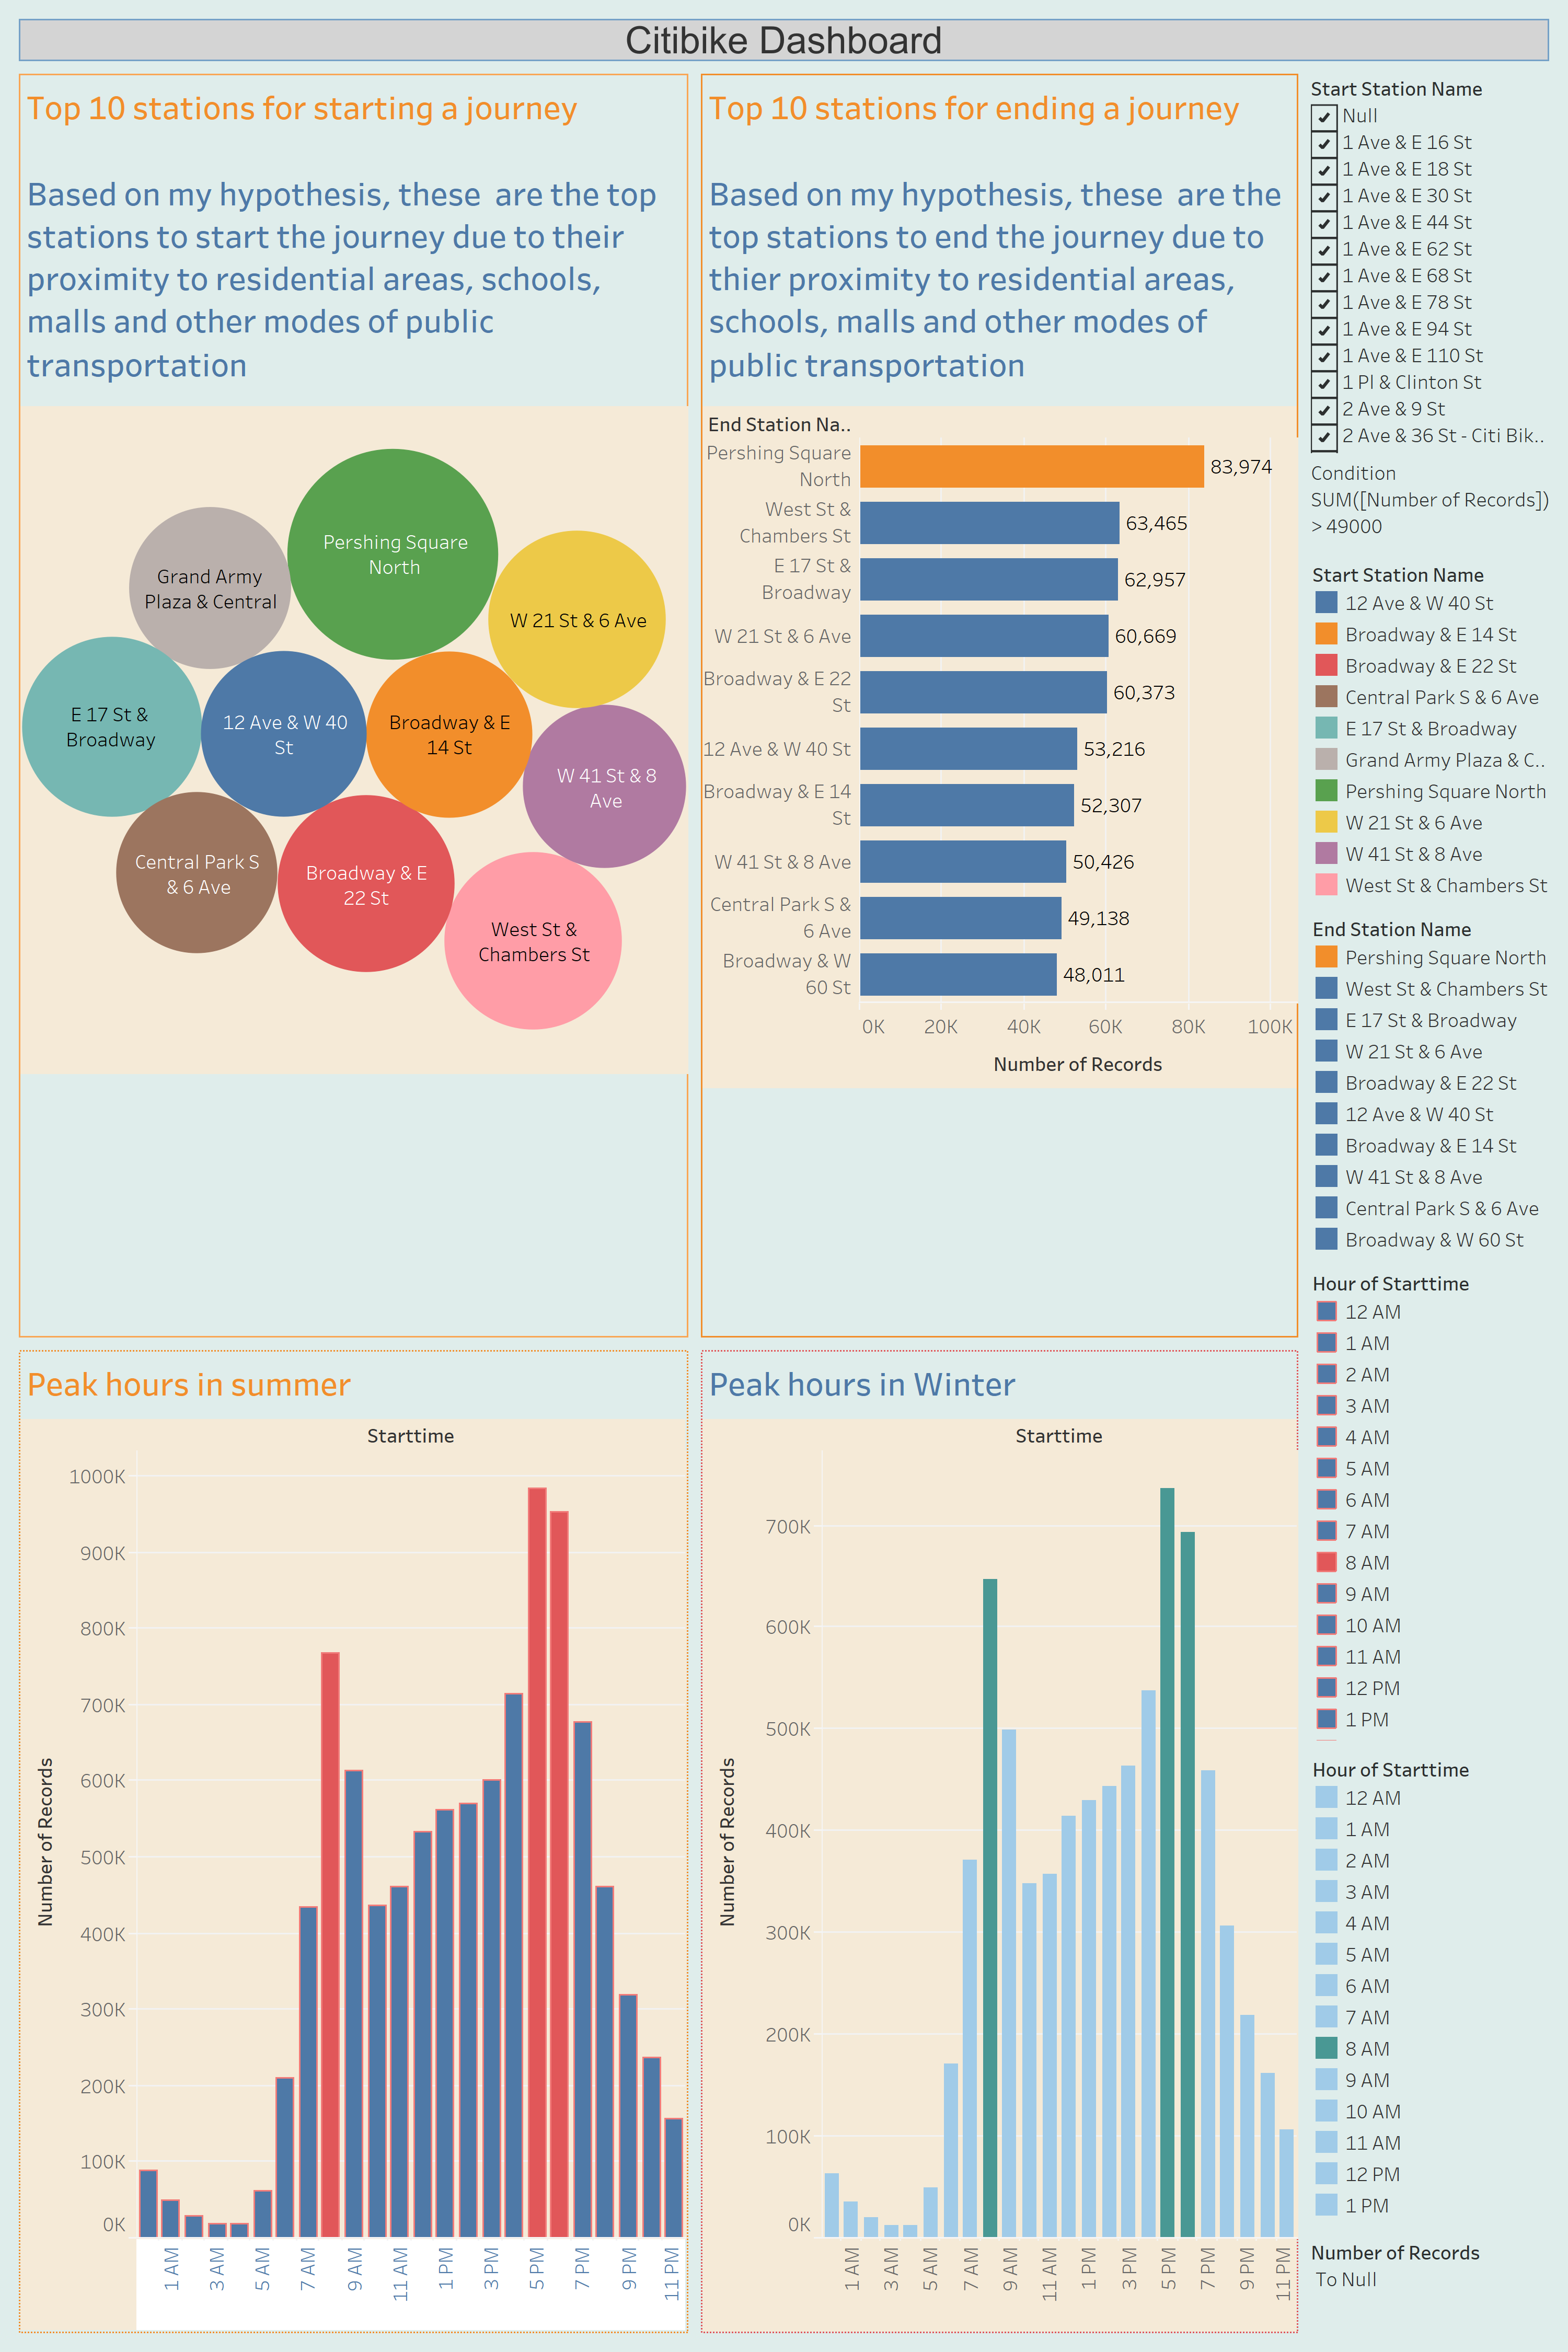

This screenshot's page, from the dashboard's own definition file:
{"tool":"tableau","page":{"name":"Citibike Dashboard","canvas":[1000,1500],"ordinal":0},"visuals":[{"type":"title","box":[8,8,984,35]},{"type":"worksheet","title":"Top 10 stations for starting a journey","mark":"Circle","box":[8,43,435,814.3]},{"type":"worksheet","title":"Top 10 stations for ending a journey","mark":"Automatic","rows":["end station name"],"cols":["Number of Records"],"box":[443,43,389,814.3]},{"type":"filter","title":"Top 10 stations for starting a journey","param":"[federated.0xiukut0ggkzjn19z69da158yac8].[none:start station name:nk]","box":[832,43,160,309.3]},{"type":"legend","title":"Top 10 stations for starting a journey","param":"[federated.0xiukut0ggkzjn19z69da158yac8].[none:start station name:nk]","box":[832,352.3,160,226]},{"type":"legend","title":"Top 10 stations for ending a journey","param":"[federated.0xiukut0ggkzjn19z69da158yac8].[none:end station name:nk]","box":[832,578.3,160,226]},{"type":"legend","title":"Peak hours in summer","param":"[federated.0xiukut0ggkzjn19z69da158yac8].[hr:starttime:ok]","box":[832,804.3,160,309.3]},{"type":"worksheet","title":"Peak hours in summer","mark":"Bar","rows":["Number of Records"],"cols":["starttime"],"box":[8,857.3,435,634.7]},{"type":"worksheet","title":"Peak hours in Winter","mark":"Bar","rows":["Number of Records"],"cols":["starttime"],"box":[443,857.3,389,634.7]},{"type":"legend","title":"Peak hours in Winter","param":"[federated.1tjbtri1fbnhg9139qmnr101qahb].[hr:starttime:ok]","box":[832,1113.7,160,309.3]},{"type":"filter","title":"Top 10 stations for starting a journey","param":"[federated.0xiukut0ggkzjn19z69da158yac8].[sum:Number of Records:qk]","box":[832,1423,160,69]}]}

Visuals, with their boxes in screenshot pixels (x1, y1, x2, y2), scaled from the page's 1000x1500 canvas onto the 1568x2352 screenshot:
title: select_region(13, 13, 1555, 67)
"Top 10 stations for starting a journey" worksheet (Circle marks): select_region(13, 67, 695, 1344)
"Top 10 stations for ending a journey" worksheet: select_region(695, 67, 1305, 1344)
"Top 10 stations for starting a journey" filter: select_region(1305, 67, 1555, 552)
"Top 10 stations for starting a journey" legend: select_region(1305, 552, 1555, 907)
"Top 10 stations for ending a journey" legend: select_region(1305, 907, 1555, 1261)
"Peak hours in summer" legend: select_region(1305, 1261, 1555, 1746)
"Peak hours in summer" worksheet (Bar marks): select_region(13, 1344, 695, 2339)
"Peak hours in Winter" worksheet (Bar marks): select_region(695, 1344, 1305, 2339)
"Peak hours in Winter" legend: select_region(1305, 1746, 1555, 2231)
"Top 10 stations for starting a journey" filter: select_region(1305, 2231, 1555, 2339)
